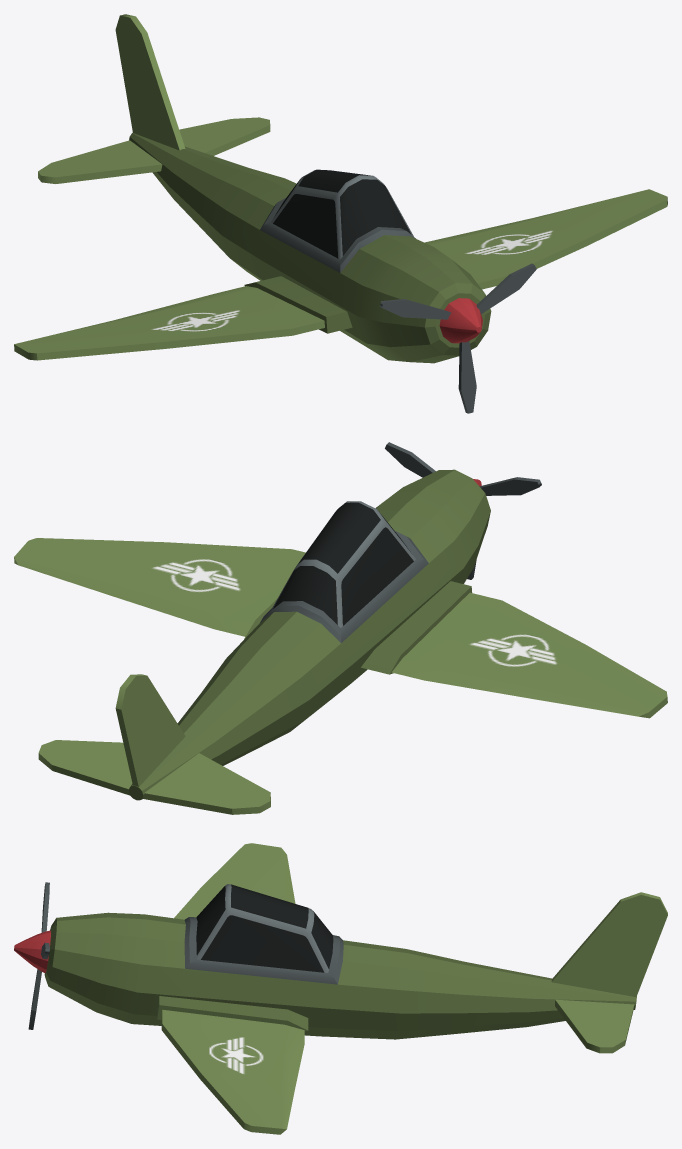
Rendered from Attack_Plane_2.FBX.
3 views of the same model, one above another, from view 1: azimuth 30°, elevation 25°; view 2: azimuth 150°, elevation 25°; view 3: azimuth 270°, elevation 25° (orthographic). The views are drawn at different scales.
Visible parts, largest first — view 1: Attack_Plane_2; view 2: Attack_Plane_2; view 3: Attack_Plane_2.
Boxes of the visible parts, bbox=[...] form: Attack_Plane_2: bbox=[14, 14, 667, 413]; Attack_Plane_2: bbox=[14, 442, 667, 814]; Attack_Plane_2: bbox=[14, 843, 667, 1134].
Size of the model in its own units: 14.7 by 3.6 by 14.37.
Materials: 1 (1 with a texture image).
